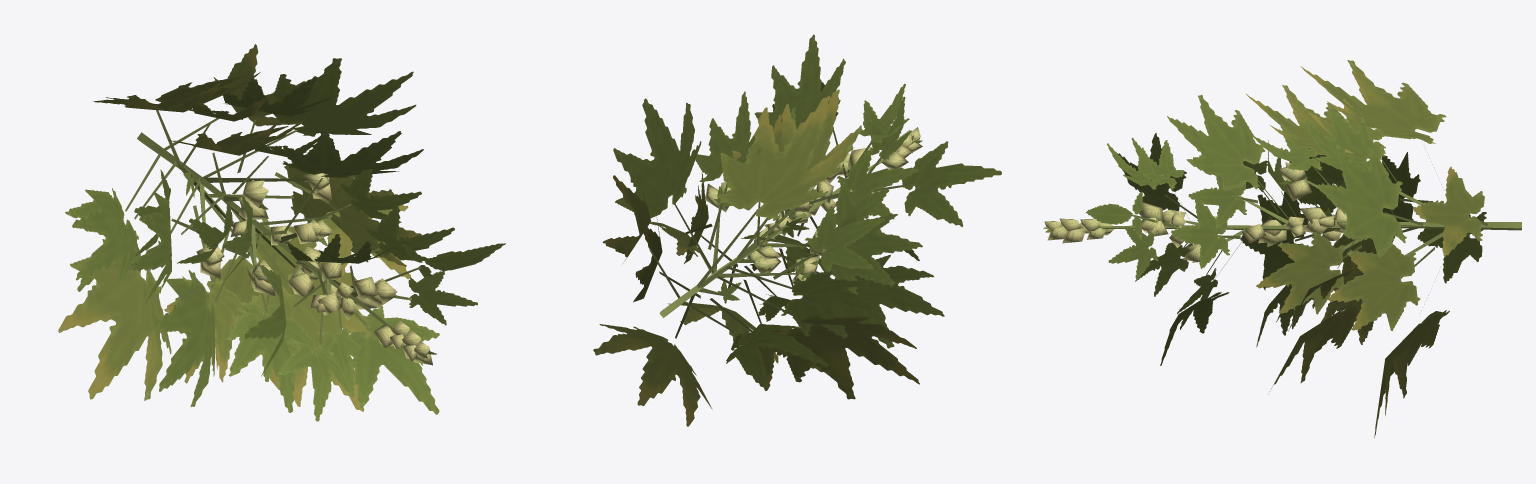
Rendered from p_male_tree_ripe_c1_cards.obj.
The picture shows the model from 3 angles, left to right: view 1: azimuth 30°, elevation 25°; view 2: azimuth 150°, elevation 25°; view 3: azimuth 270°, elevation 25°; orthographic projection. The views are drawn at different scales.
Bounding box in the file's own units: 1.32 × 1.29 × 1.5.
Materials: 1 (1 with a texture image).
